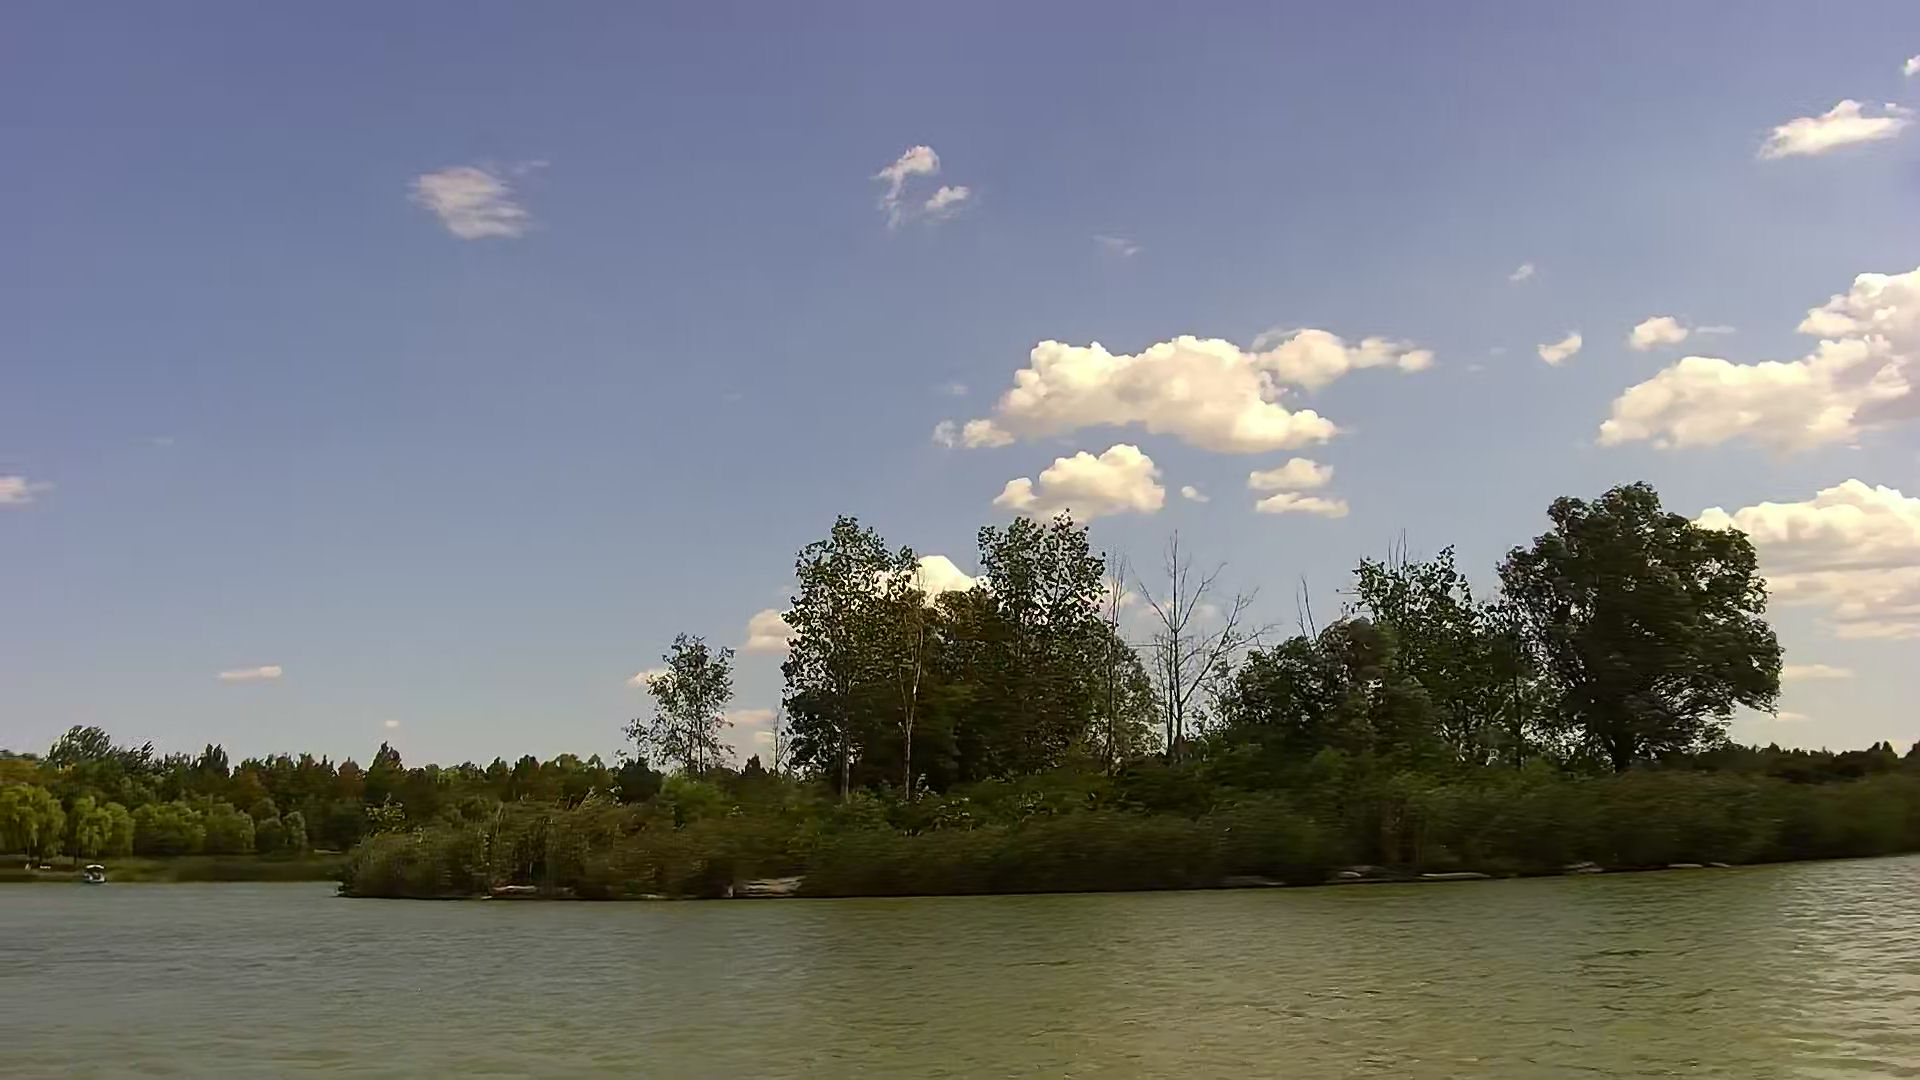boat: (86, 860, 105, 886)
rock: (724, 872, 804, 894), (1420, 865, 1482, 882), (483, 880, 527, 899), (1335, 862, 1365, 889), (1668, 858, 1727, 872), (1568, 858, 1598, 874)
